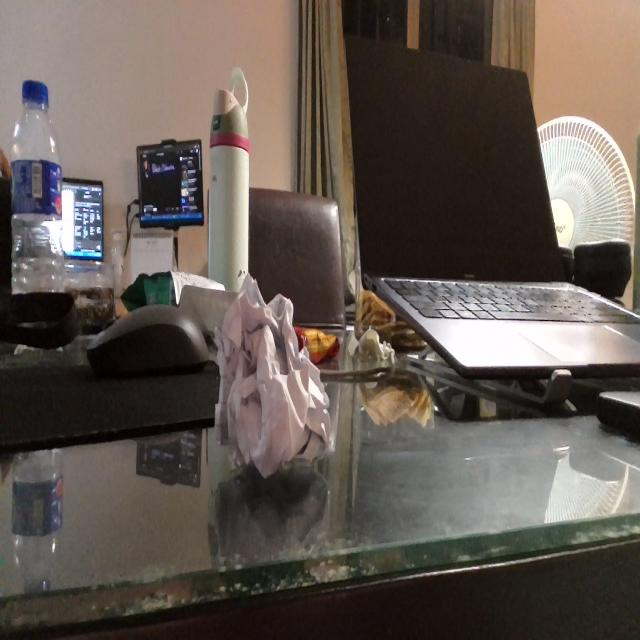crumpled_paper: (212, 269, 334, 487)
